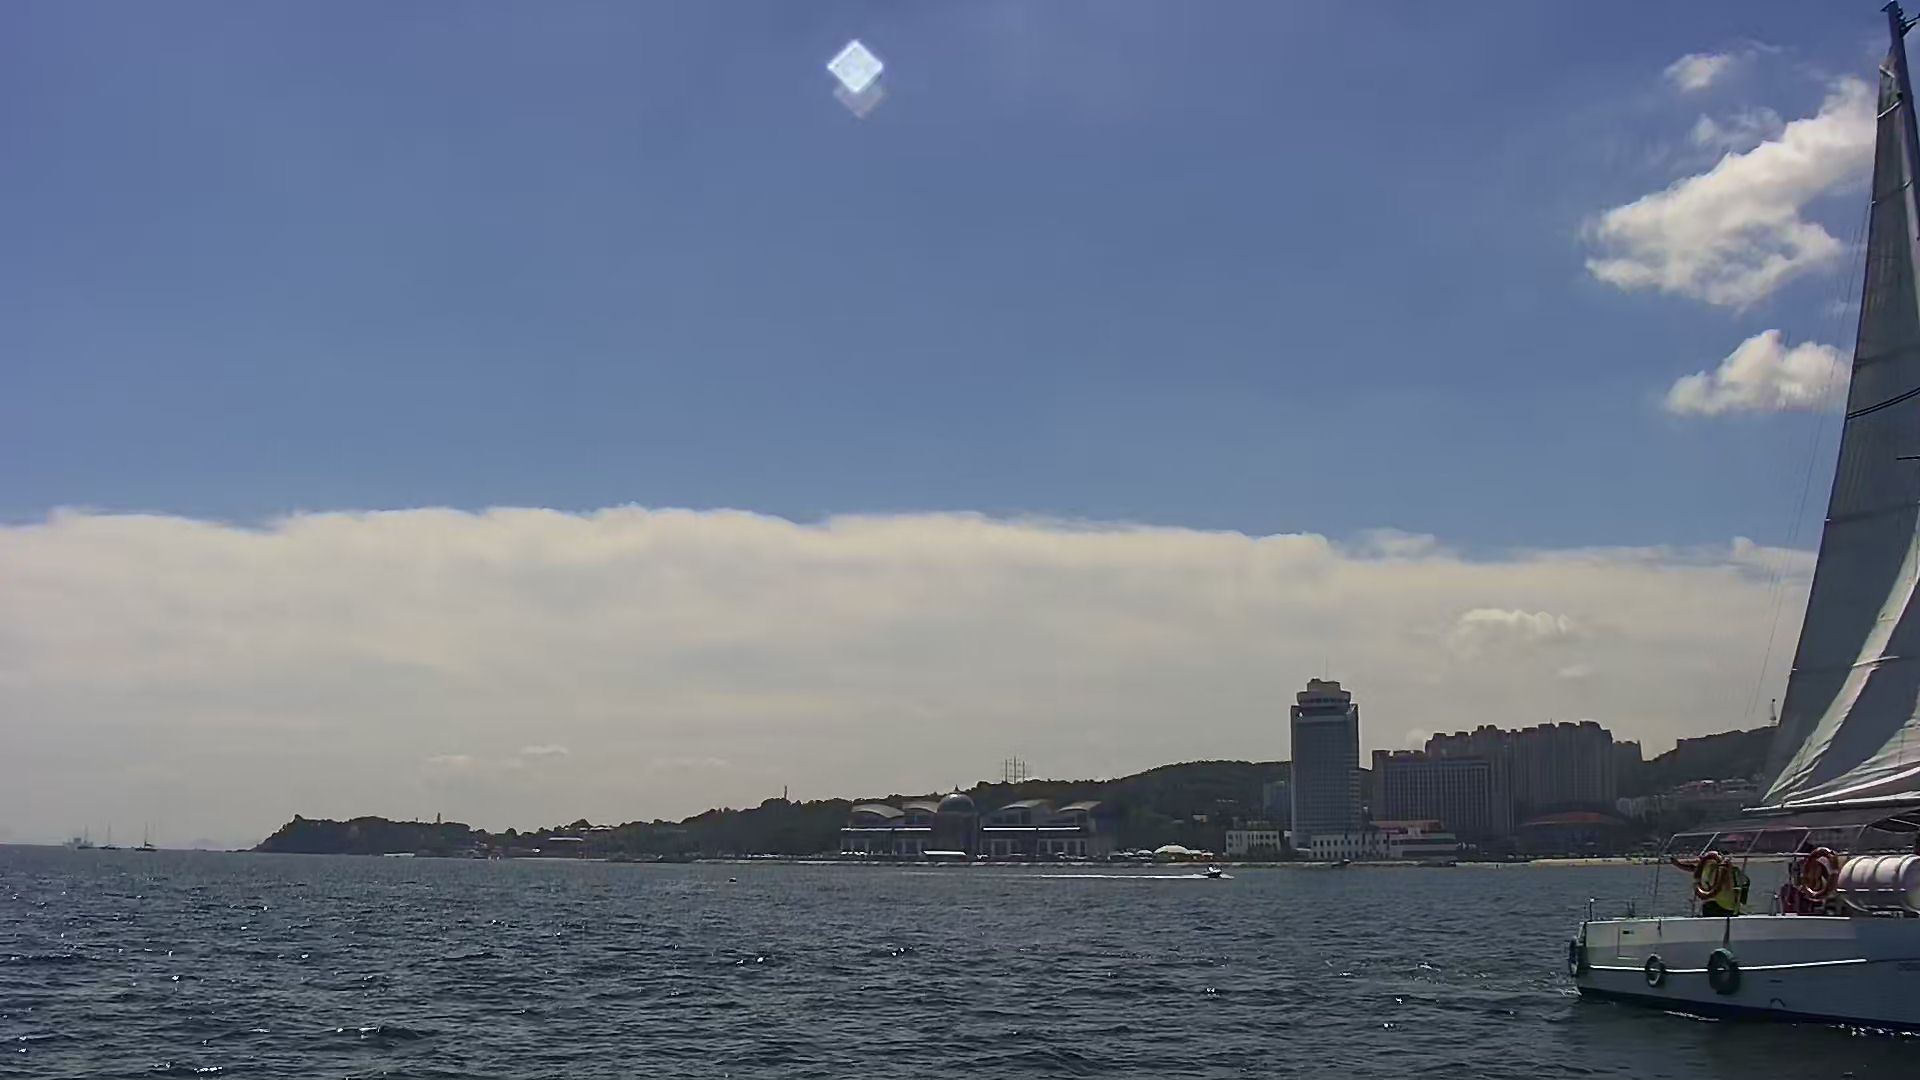boat: (1557, 8, 1920, 1006)
